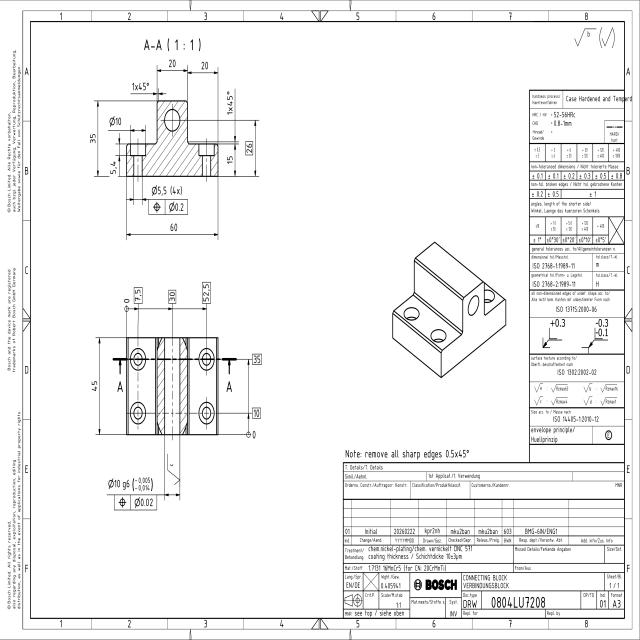dimension: (106, 475, 154, 492), (151, 184, 183, 197), (130, 80, 150, 92), (226, 89, 234, 116), (202, 282, 211, 304), (109, 114, 122, 128), (133, 286, 142, 305), (167, 56, 178, 70), (109, 158, 118, 174), (168, 288, 177, 304), (252, 406, 262, 420), (252, 353, 262, 366), (245, 140, 253, 156), (88, 130, 96, 144), (91, 379, 98, 393), (226, 154, 234, 166), (200, 61, 209, 71), (170, 222, 178, 233)
